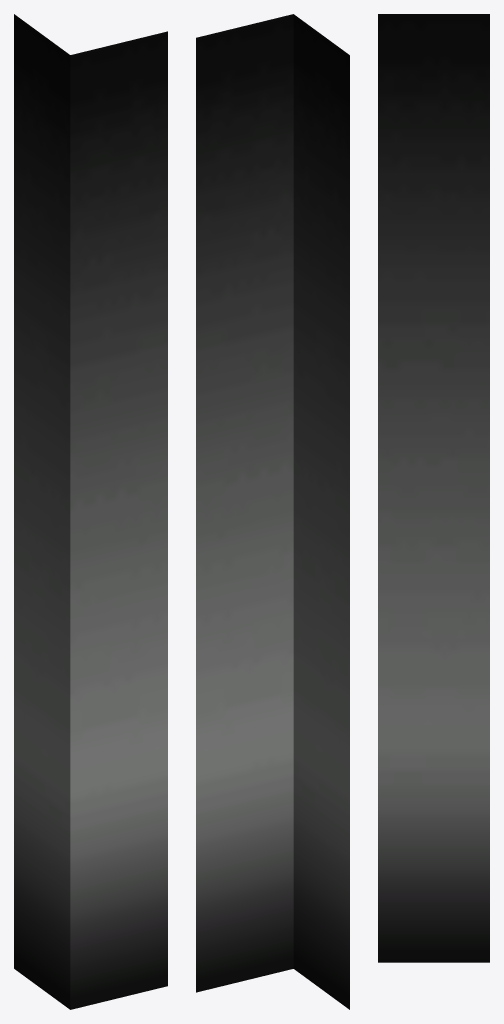
File: caustics_wall_convex_01.fbx
3 views of the same model, side by side, from view 1: azimuth 30°, elevation 25°; view 2: azimuth 210°, elevation 25°; view 3: azimuth 270°, elevation 25° (orthographic).
Visible parts, largest first — view 1: obj0.259; view 2: obj0.259; view 3: obj0.259.
Boxes of the visible parts, x1,y1,x2,y2 form: obj0.259: [14, 14, 167, 1009]; obj0.259: [196, 14, 349, 1009]; obj0.259: [378, 14, 489, 962].
Bounding box in the file's own units: 0.4272 × 4 × 0.4274.
